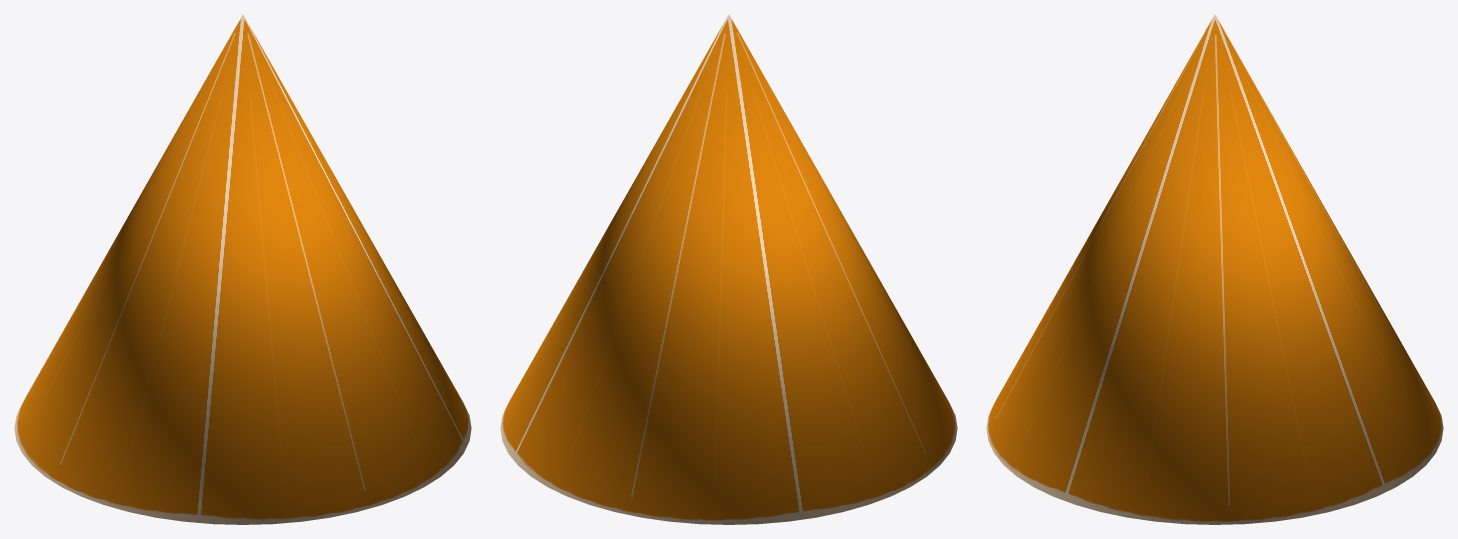
3 renders of one model, left to right at view 1: azimuth 30°, elevation 25°; view 2: azimuth 150°, elevation 25°; view 3: azimuth 270°, elevation 25°, orthographic.
Parts seen in each view (by area): view 1: Cone_HQ_Cone.002; view 2: Cone_HQ_Cone.002; view 3: Cone_HQ_Cone.002.
Part boxes in pixels (bbox=[...]): Cone_HQ_Cone.002: bbox=[14, 14, 471, 524]; Cone_HQ_Cone.002: bbox=[500, 14, 957, 524]; Cone_HQ_Cone.002: bbox=[986, 14, 1443, 524].
Bounding box in the file's own units: 1 × 1 × 1.
1 material, 1 textured.
